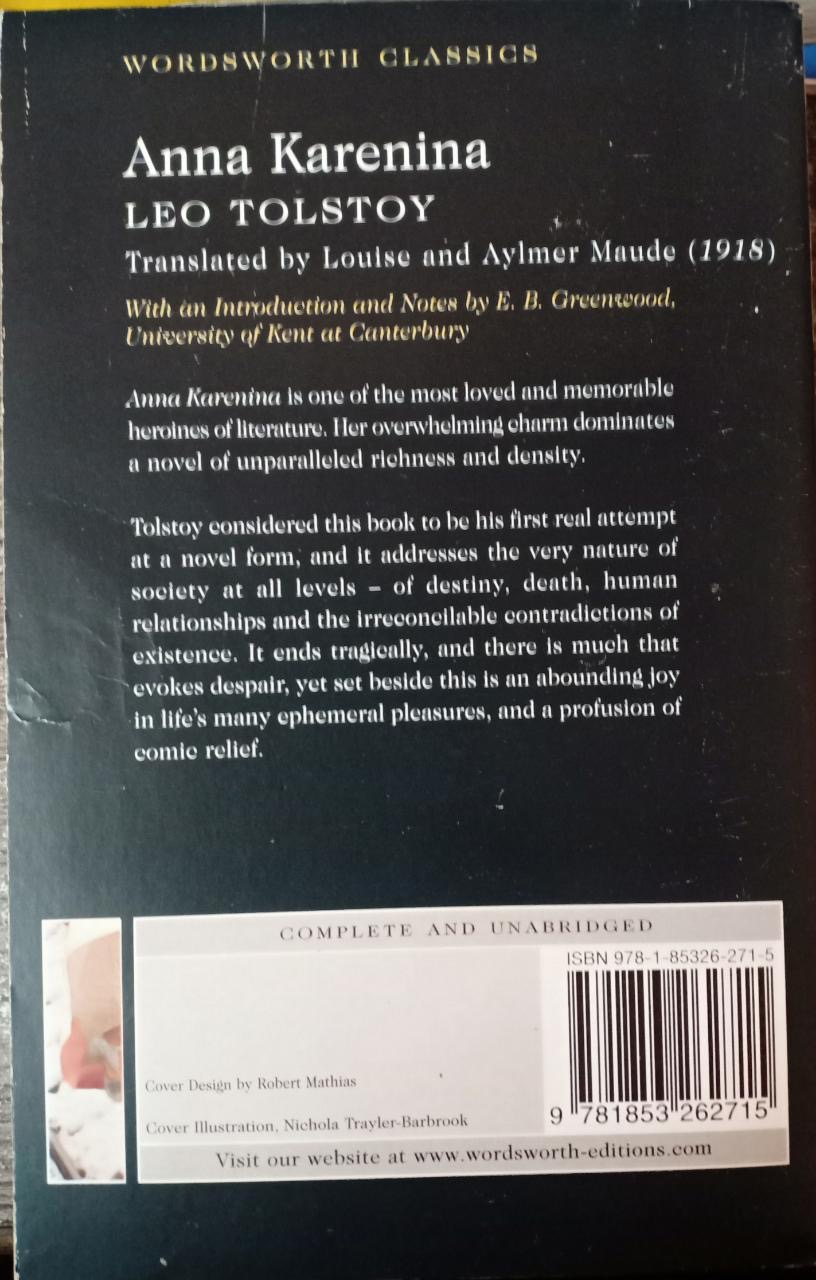barcode: (541, 933, 785, 1127)
